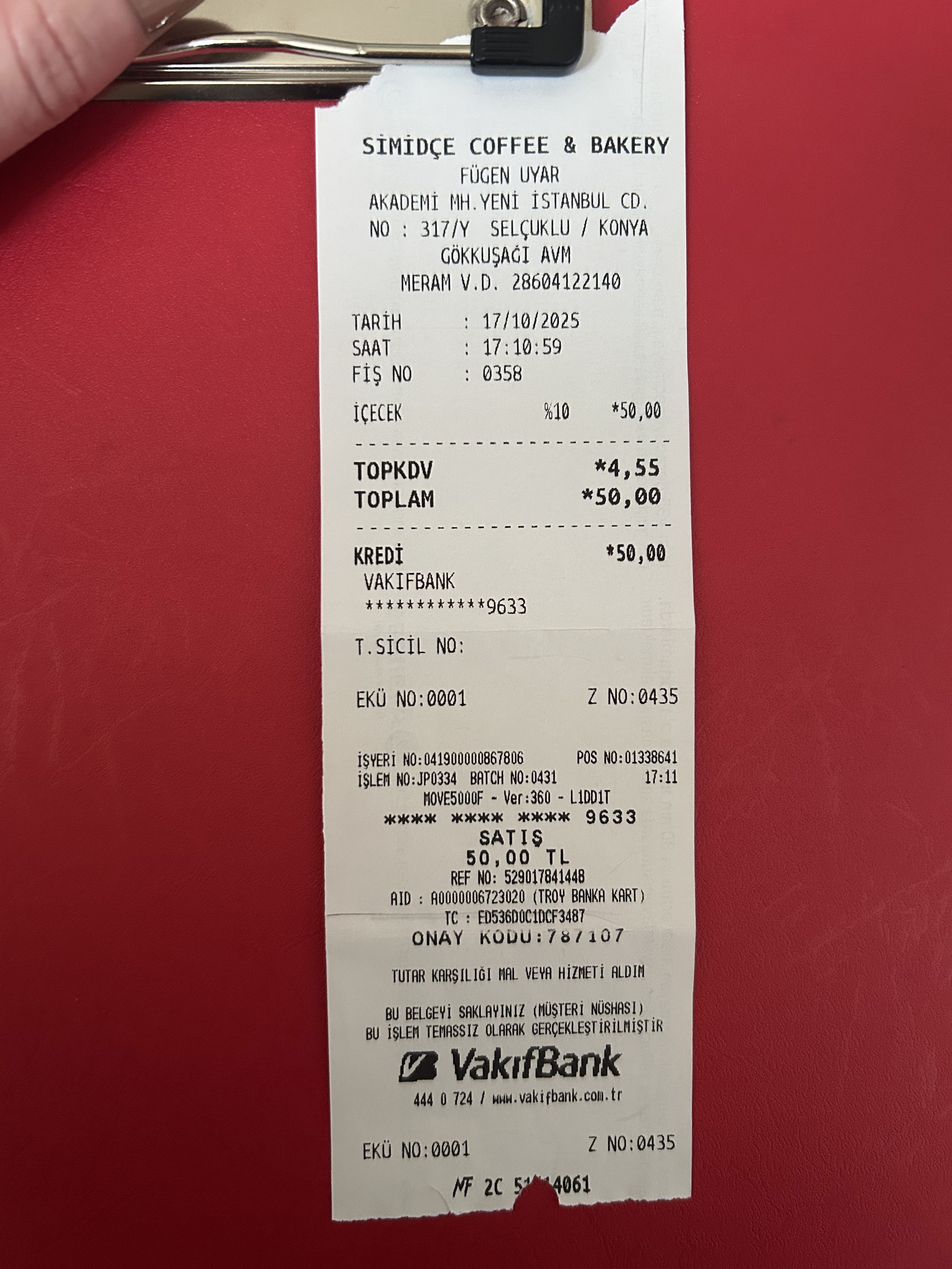date: (481, 310, 584, 331)
price: (594, 483, 669, 515)
workplace: (344, 127, 677, 266)
